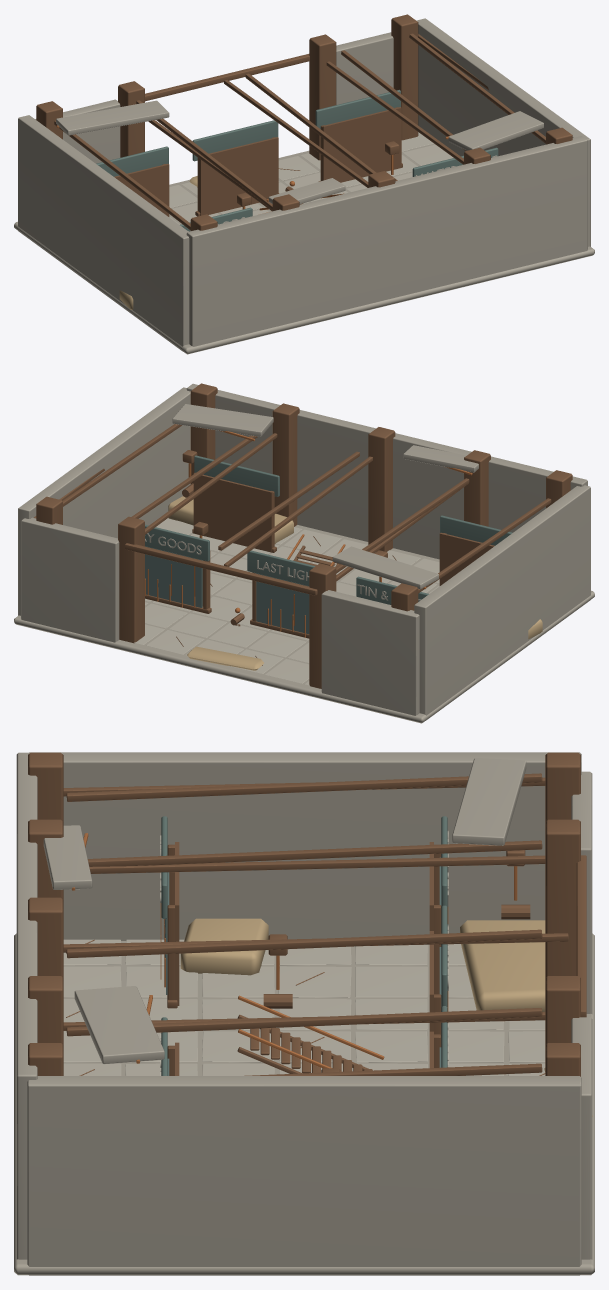
The model's file is mall.glb.
3 renders of one model, top to bottom at view 1: azimuth 30°, elevation 25°; view 2: azimuth 150°, elevation 25°; view 3: azimuth 270°, elevation 25°, orthographic. The views are drawn at different scales.
Visible parts, largest first — view 1: half-buried-mall-rear-wall, half-buried-mall-sidewall--14.5, half-buried-mall-sidewall-14.5, mall-floor-foundation, shop-1-recessed-dark-interior, shop-2-recessed-dark-interior, half-buried-mall-front-wall-11, mall-perimeter-pier-13--9.8, mall-perimeter-pier-7--9.8, collapsed-roof-slab-ragged, collapsed-roof-slab-ragged.001, half-buried-mall-front-wall--11 (+20 smaller); view 2: half-buried-mall-sidewall--14.5, half-buried-mall-rear-wall, half-buried-mall-sidewall-14.5, half-buried-mall-front-wall--11, half-buried-mall-front-wall-11, mall-floor-foundation, shop-4-recessed-dark-interior, mall-perimeter-pier-7--9.8, mall-perimeter-pier-0-9.8, mall-perimeter-pier-7-9.8, shop-2-dirty-window, collapsed-roof-slab-ragged.001 (+36 smaller); view 3: half-buried-mall-sidewall-14.5, half-buried-mall-sidewall--14.5, mall-floor-foundation, half-buried-mall-rear-wall, sand-drift-1, mall-perimeter-pier--7--9.8, collapsed-roof-slab-ragged.001, collapsed-roof-slab-ragged, welded-roof-truss-1, welded-roof-truss--7, welded-roof-truss--13, welded-fascia-girder--7 (+42 smaller).
Part boxes in pixels (<box>): half-buried-mall-rear-wall: <box>186,136,587,346</box>; half-buried-mall-sidewall--14.5: <box>18,115,189,351</box>; half-buried-mall-sidewall-14.5: <box>416,18,590,246</box>; mall-floor-foundation: <box>14,143,594,354</box>; shop-1-recessed-dark-interior: <box>199,137,278,215</box>; shop-2-recessed-dark-interior: <box>322,107,401,182</box>; half-buried-mall-front-wall-11: <box>336,32,393,104</box>; mall-perimeter-pier-13--9.8: <box>391,14,418,140</box>; mall-perimeter-pier-7--9.8: <box>309,34,336,160</box>; collapsed-roof-slab-ragged: <box>56,100,169,135</box>; collapsed-roof-slab-ragged.001: <box>448,111,543,150</box>; half-buried-mall-front-wall--11: <box>35,99,120,163</box>; half-buried-mall-sidewall--14.5: <box>414,485,590,720</box>; half-buried-mall-rear-wall: <box>186,383,587,559</box>; half-buried-mall-sidewall-14.5: <box>18,387,190,615</box>; half-buried-mall-front-wall--11: <box>321,590,419,715</box>; half-buried-mall-front-wall-11: <box>21,517,119,642</box>; mall-floor-foundation: <box>14,518,594,723</box>; shop-4-recessed-dark-interior: <box>193,472,272,552</box>; mall-perimeter-pier-7--9.8: <box>118,516,144,643</box>; mall-perimeter-pier-0-9.8: <box>368,427,395,551</box>; mall-perimeter-pier-7-9.8: <box>272,403,299,526</box>; shop-2-dirty-window: <box>145,546,202,607</box>; collapsed-roof-slab-ragged.001: <box>172,404,273,436</box>; half-buried-mall-sidewall-14.5: <box>27,1076,581,1275</box>; half-buried-mall-sidewall--14.5: <box>29,752,581,940</box>; mall-floor-foundation: <box>14,933,594,1275</box>; half-buried-mall-rear-wall: <box>16,752,37,1259</box>; sand-drift-1: <box>460,920,545,1011</box>; mall-perimeter-pier--7--9.8: <box>545,819,580,977</box>; collapsed-roof-slab-ragged.001: <box>74,986,164,1064</box>; collapsed-roof-slab-ragged: <box>452,758,526,845</box>; welded-roof-truss-1: <box>66,929,542,958</box>; welded-roof-truss--7: <box>87,840,542,866</box>; welded-roof-truss--13: <box>66,773,542,801</box>; welded-fascia-girder--7: <box>89,855,545,873</box>.
Bounding box in the file's own units: 30.13 × 8.6 × 22.
